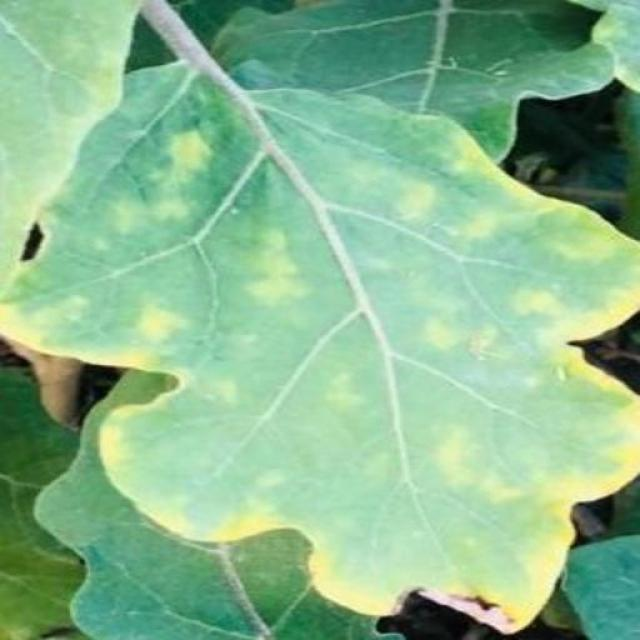leaf_spot: (435, 118, 576, 226), (484, 512, 594, 638), (297, 509, 417, 621), (521, 451, 640, 551), (544, 305, 640, 403), (239, 208, 317, 324), (11, 176, 83, 294), (428, 424, 520, 514), (416, 573, 528, 640), (3, 284, 93, 364), (538, 194, 620, 272), (592, 369, 640, 501), (58, 339, 170, 386), (100, 403, 159, 492), (598, 217, 640, 333), (210, 496, 297, 550), (109, 188, 198, 235), (126, 487, 200, 540), (162, 119, 222, 180), (134, 300, 199, 355), (392, 163, 437, 235), (60, 116, 99, 197), (88, 44, 126, 122), (503, 280, 568, 322), (461, 318, 517, 364), (420, 306, 460, 356), (323, 368, 367, 412), (152, 366, 207, 399), (350, 152, 396, 190), (606, 47, 640, 96), (585, 8, 621, 51), (199, 378, 250, 406), (460, 208, 497, 244), (246, 463, 298, 487)
